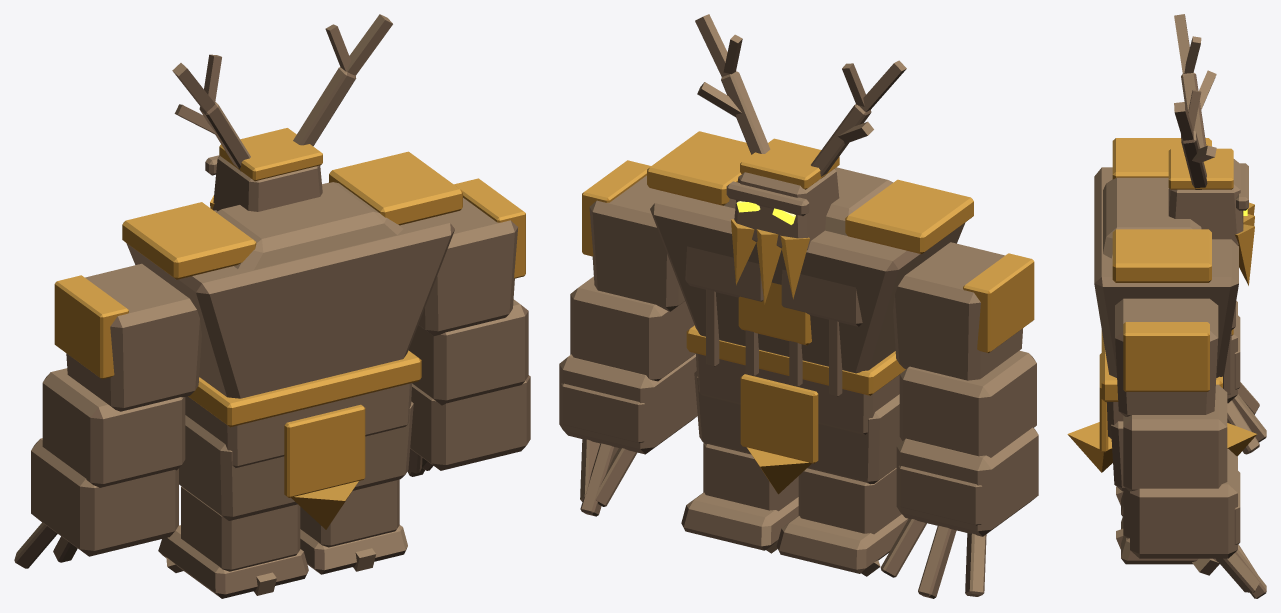
Rendered from treant_king.glb.
3 renders of one model, left to right at view 1: azimuth 30°, elevation 25°; view 2: azimuth 150°, elevation 25°; view 3: azimuth 270°, elevation 25°, orthographic. The views are drawn at different scales.
Visible parts, largest first — view 1: Torso, ArmL, ArmR, Hips, LegL, LegR; view 2: Torso, ArmL, ArmR, Hips, LegL, LegR; view 3: ArmR, Torso, Hips, LegR, ArmL.
Part boxes in pixels (box(x1,y1,x2,y2)): Torso: box(122, 14, 462, 398); ArmL: box(14, 263, 201, 568); ArmR: box(407, 178, 530, 476); Hips: box(185, 350, 421, 529); LegL: box(158, 415, 308, 598); LegR: box(300, 401, 413, 574); Torso: box(647, 14, 973, 396); ArmL: box(880, 242, 1038, 598); ArmR: box(559, 160, 697, 516); Hips: box(686, 325, 905, 494); LegL: box(776, 394, 908, 576); LegR: box(681, 371, 798, 553); ArmR: box(1115, 298, 1266, 598); Torso: box(1094, 14, 1254, 394); Hips: box(1067, 330, 1256, 472); LegR: box(1111, 421, 1219, 575); ArmL: box(1227, 301, 1266, 454).
Bounding box in the file's own units: 2.2 × 2.43 × 0.9226.
